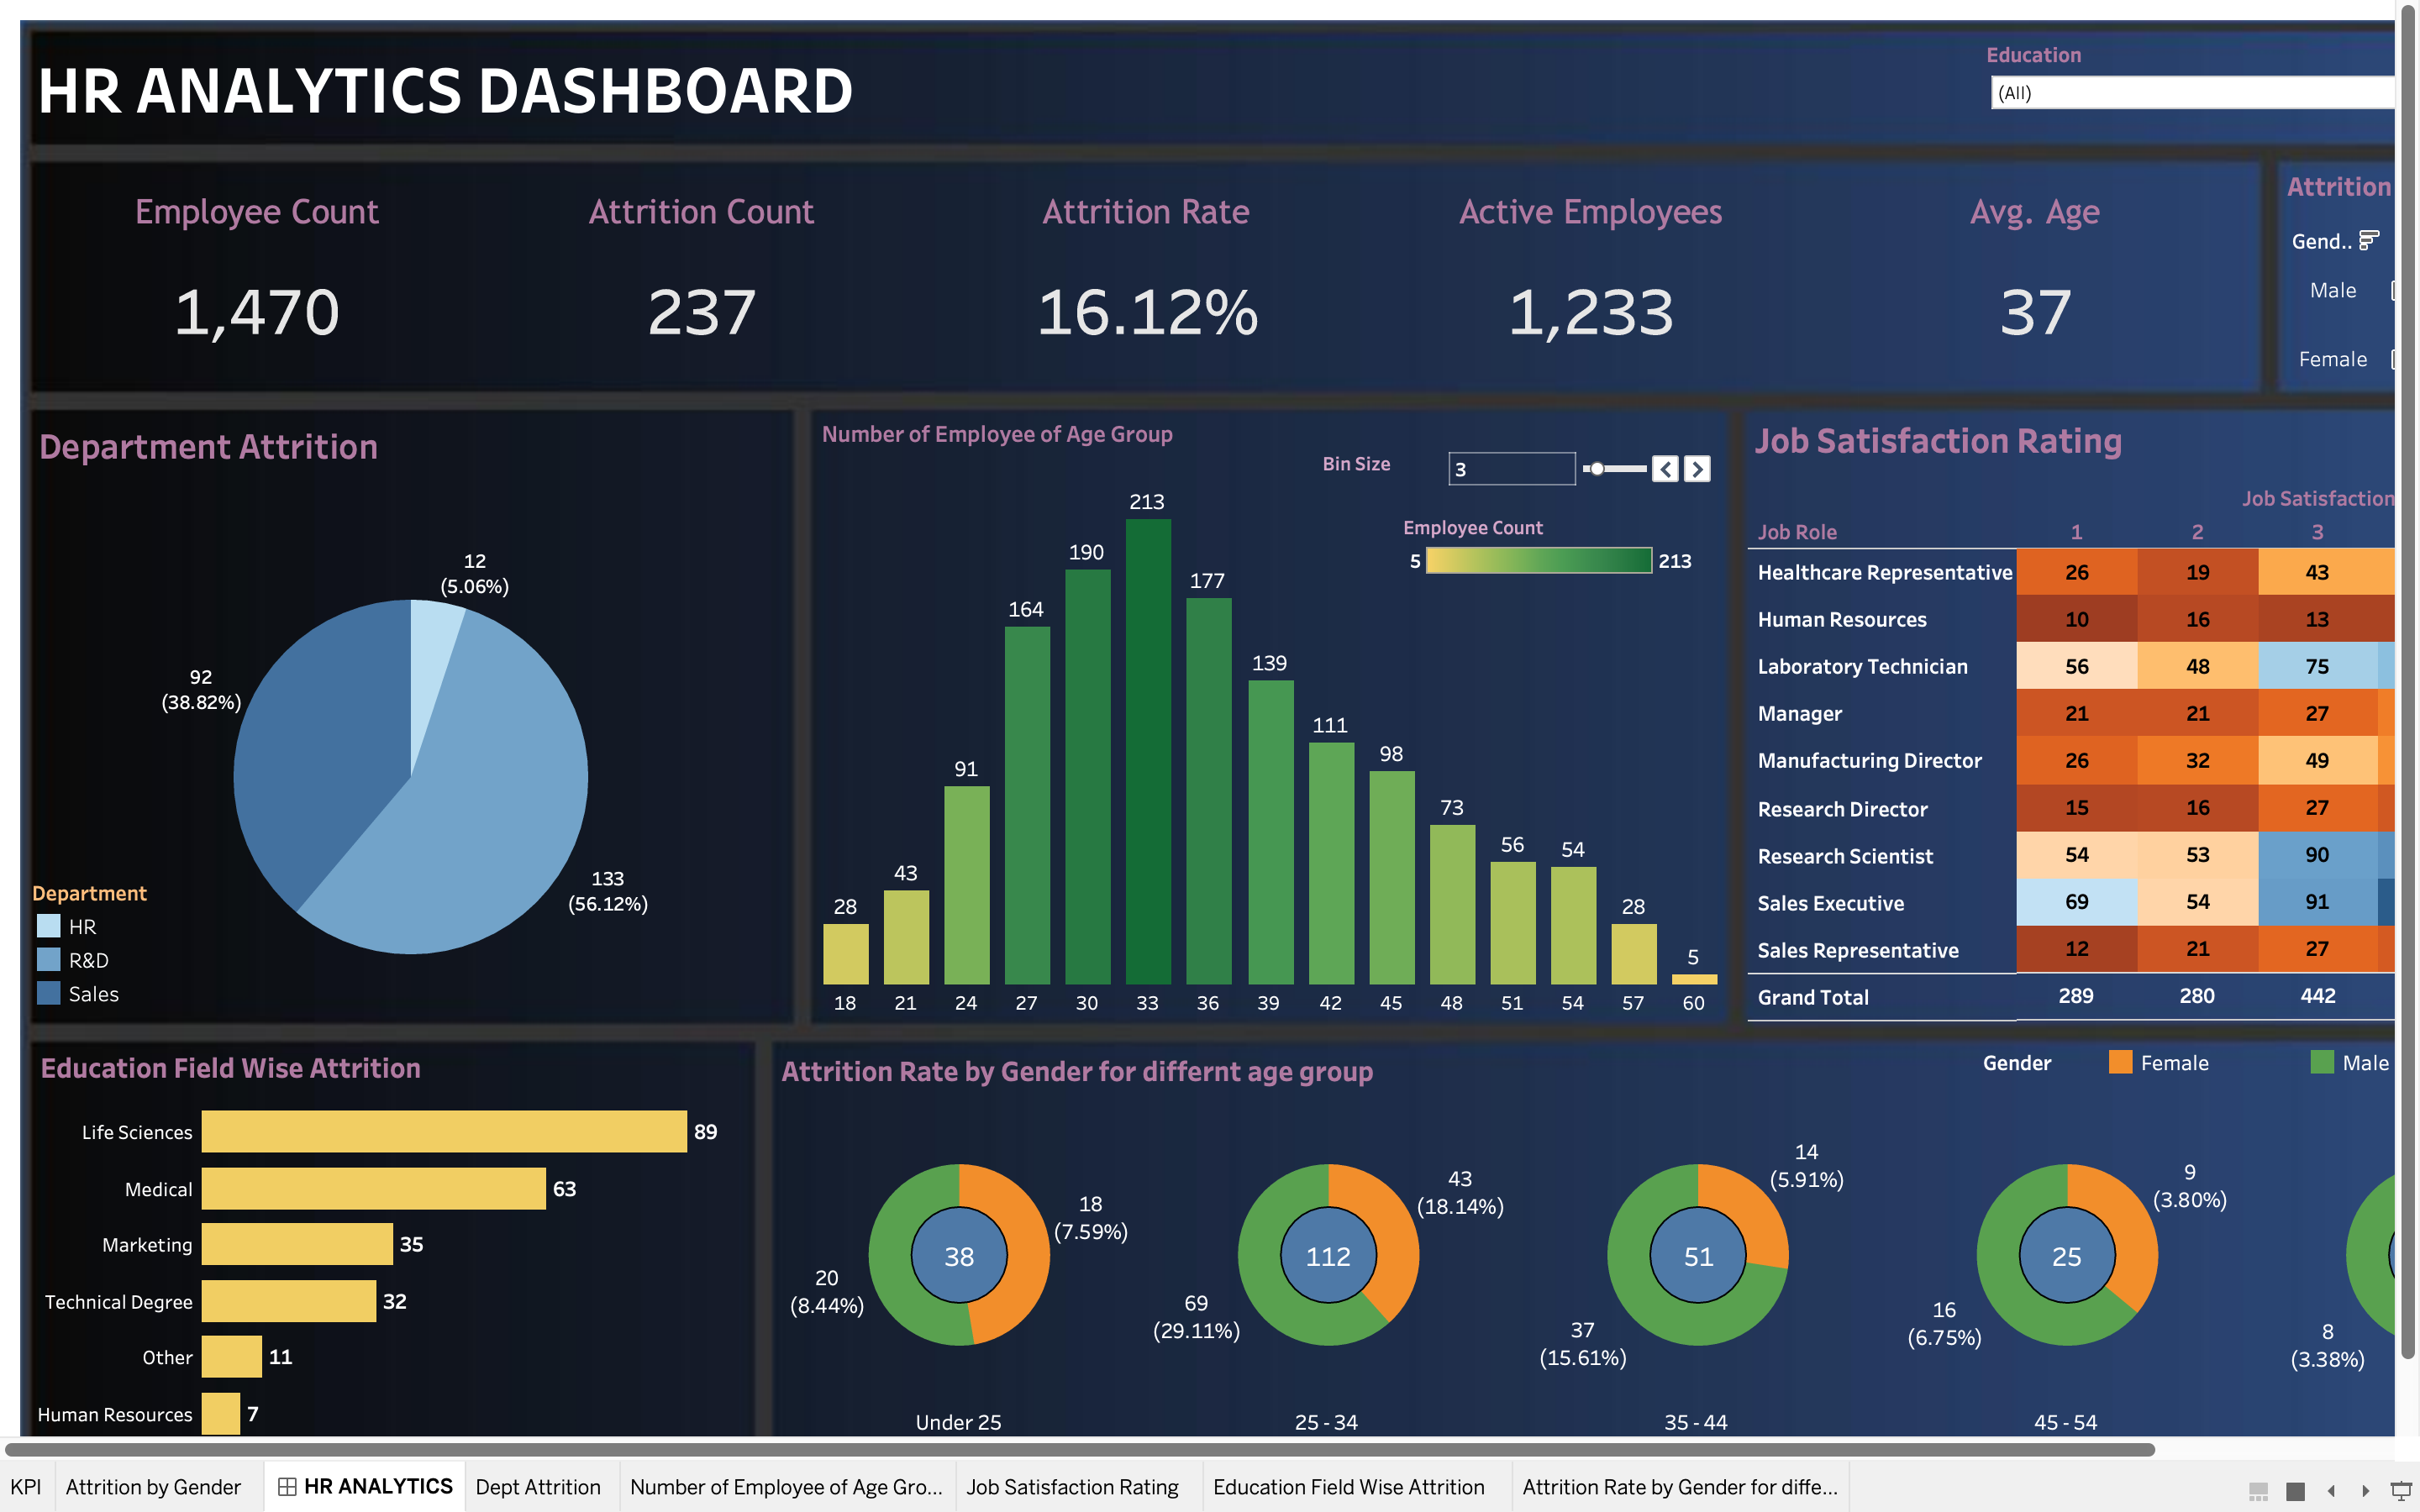

The page's visual inventory and layout, read from the dashboard file:
{"tool":"tableau","page":{"name":"HR ANALYTICS","canvas":[1580,900],"ordinal":0},"visuals":[{"type":"image","param":"Image/HR background.pptx.jpg","box":[8,8,1564,884]},{"type":"text","box":[19,18,668,67]},{"type":"filter","title":"Dept Attrition","param":"[federated.1yr77ds14imzdk1h5g87403gljhu].[none:Education:nk]","box":[1182,24,350,58]},{"type":"worksheet","title":"Attrition by Gender","mark":"Automatic","rows":["Gender"],"cols":["Calculation_1853512781496889344","Calculation_1853512781496889344"],"box":[1357,96,203,138]},{"type":"worksheet","title":"KPI","mark":"Automatic","box":[21,98,1323,131]},{"type":"worksheet","title":"Job Satisfaction Rating","mark":"Square","rows":["Job Role"],"cols":["Job Satisfaction"],"box":[1040,244,520,364]},{"type":"worksheet","title":"Number of Employee of Age Group","mark":"Automatic","rows":["Employee Count"],"cols":["Age (bin)"],"box":[485,245,542,361]},{"type":"worksheet","title":"Dept Attrition","mark":"Pie","box":[19,247,451,360]},{"type":"parameter","param":"[Parameters].[Parameter 1]","box":[787,266,234,29]},{"type":"legend","title":"Number of Employee of Age Group","param":"[federated.1yr77ds14imzdk1h5g87403gljhu].[sum:Employee Count:qk]","box":[835,306,177,52]},{"type":"legend","title":"Dept Attrition","param":"[federated.1yr77ds14imzdk1h5g87403gljhu].[none:Department:nk]","box":[19,523,109,85]},{"type":"worksheet","title":"Education Field Wise Attrition","mark":"Automatic","rows":["Education Field"],"cols":["Calculation_1853512781496889344"],"box":[20,620,428,238]},{"type":"worksheet","title":"Attrition Rate by Gender for differnt age group","mark":"Pie","rows":["Calculation_1853512781630935044","Calculation_1853512781630935044"],"cols":["CF_age band"],"box":[461,622,1099,234]},{"type":"legend","title":"Attrition Rate by Gender for differnt age group","param":"[federated.1yr77ds14imzdk1h5g87403gljhu].[none:Gender:nk]","box":[1180,622,377,32]}]}

Visuals, with their boxes on the page's 1580x900 design canvas (x1, y1, x2, y2). These are canvas units, not pixel positions in the 2420x1512 screenshot, which may show the page scaled, cropped or inside an application window:
image: [left=8, top=8, right=1572, bottom=892]
text: [left=19, top=18, right=687, bottom=85]
"Dept Attrition" filter: [left=1182, top=24, right=1532, bottom=82]
"Attrition by Gender" worksheet: [left=1357, top=96, right=1560, bottom=234]
"KPI" worksheet: [left=21, top=98, right=1344, bottom=229]
"Job Satisfaction Rating" worksheet (Square marks): [left=1040, top=244, right=1560, bottom=608]
"Number of Employee of Age Group" worksheet: [left=485, top=245, right=1027, bottom=606]
"Dept Attrition" worksheet (Pie marks): [left=19, top=247, right=470, bottom=607]
parameter: [left=787, top=266, right=1021, bottom=295]
"Number of Employee of Age Group" legend: [left=835, top=306, right=1012, bottom=358]
"Dept Attrition" legend: [left=19, top=523, right=128, bottom=608]
"Education Field Wise Attrition" worksheet: [left=20, top=620, right=448, bottom=858]
"Attrition Rate by Gender for differnt age group" worksheet (Pie marks): [left=461, top=622, right=1560, bottom=856]
"Attrition Rate by Gender for differnt age group" legend: [left=1180, top=622, right=1557, bottom=654]
